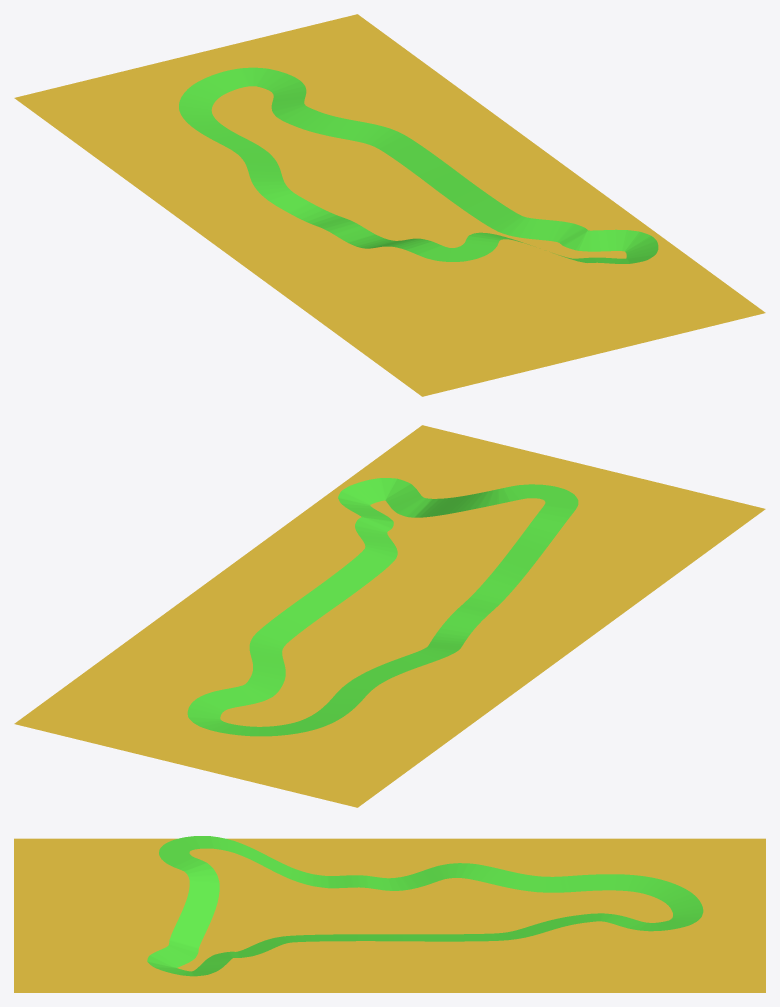
The model's file is race_track_8.fbx.
3 renders of one model, top to bottom at view 1: azimuth 30°, elevation 25°; view 2: azimuth 150°, elevation 25°; view 3: azimuth 270°, elevation 25°, orthographic. The views are drawn at different scales.
Visible parts, largest first — view 1: Ground, Racetrack; view 2: Ground, Racetrack; view 3: Ground, Racetrack.
Boxes of the visible parts, bbox=[...] form: Ground: bbox=[14, 14, 765, 396]; Racetrack: bbox=[179, 67, 658, 263]; Ground: bbox=[14, 425, 765, 807]; Racetrack: bbox=[187, 478, 578, 736]; Ground: bbox=[14, 838, 765, 992]; Racetrack: bbox=[147, 836, 703, 976].
Size of the model in its own units: 2393 by 320 by 4925.
